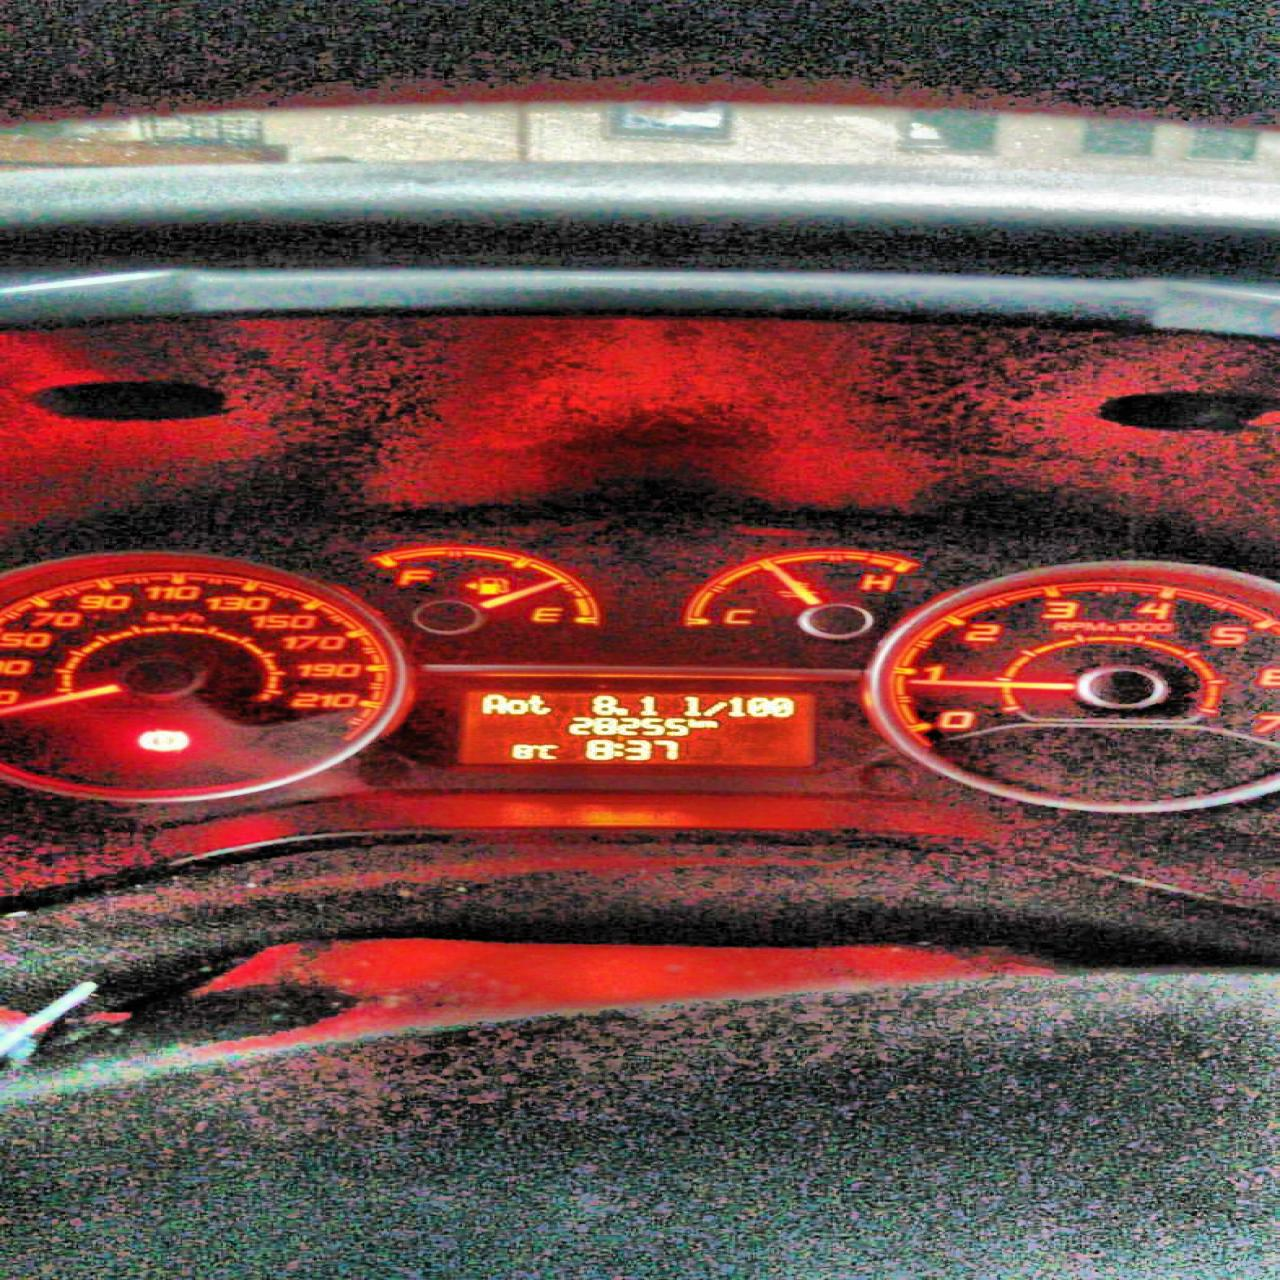-: (613, 707, 628, 715)
0: (769, 697, 794, 717), (744, 697, 769, 716)
1: (636, 694, 658, 716), (726, 696, 744, 717)
2: (617, 716, 640, 735), (566, 716, 591, 734)
3: (622, 738, 651, 760)
5: (639, 716, 663, 735), (663, 717, 688, 735)
7: (651, 738, 679, 760)
8: (584, 738, 613, 760), (588, 694, 617, 715), (591, 716, 618, 735), (509, 742, 533, 760)
X: (478, 693, 508, 714), (525, 694, 551, 715), (680, 694, 701, 716), (701, 700, 726, 716), (504, 699, 527, 715), (535, 743, 558, 760), (612, 742, 625, 757), (701, 719, 720, 728), (688, 717, 700, 729)
odometer: (455, 686, 818, 769)
